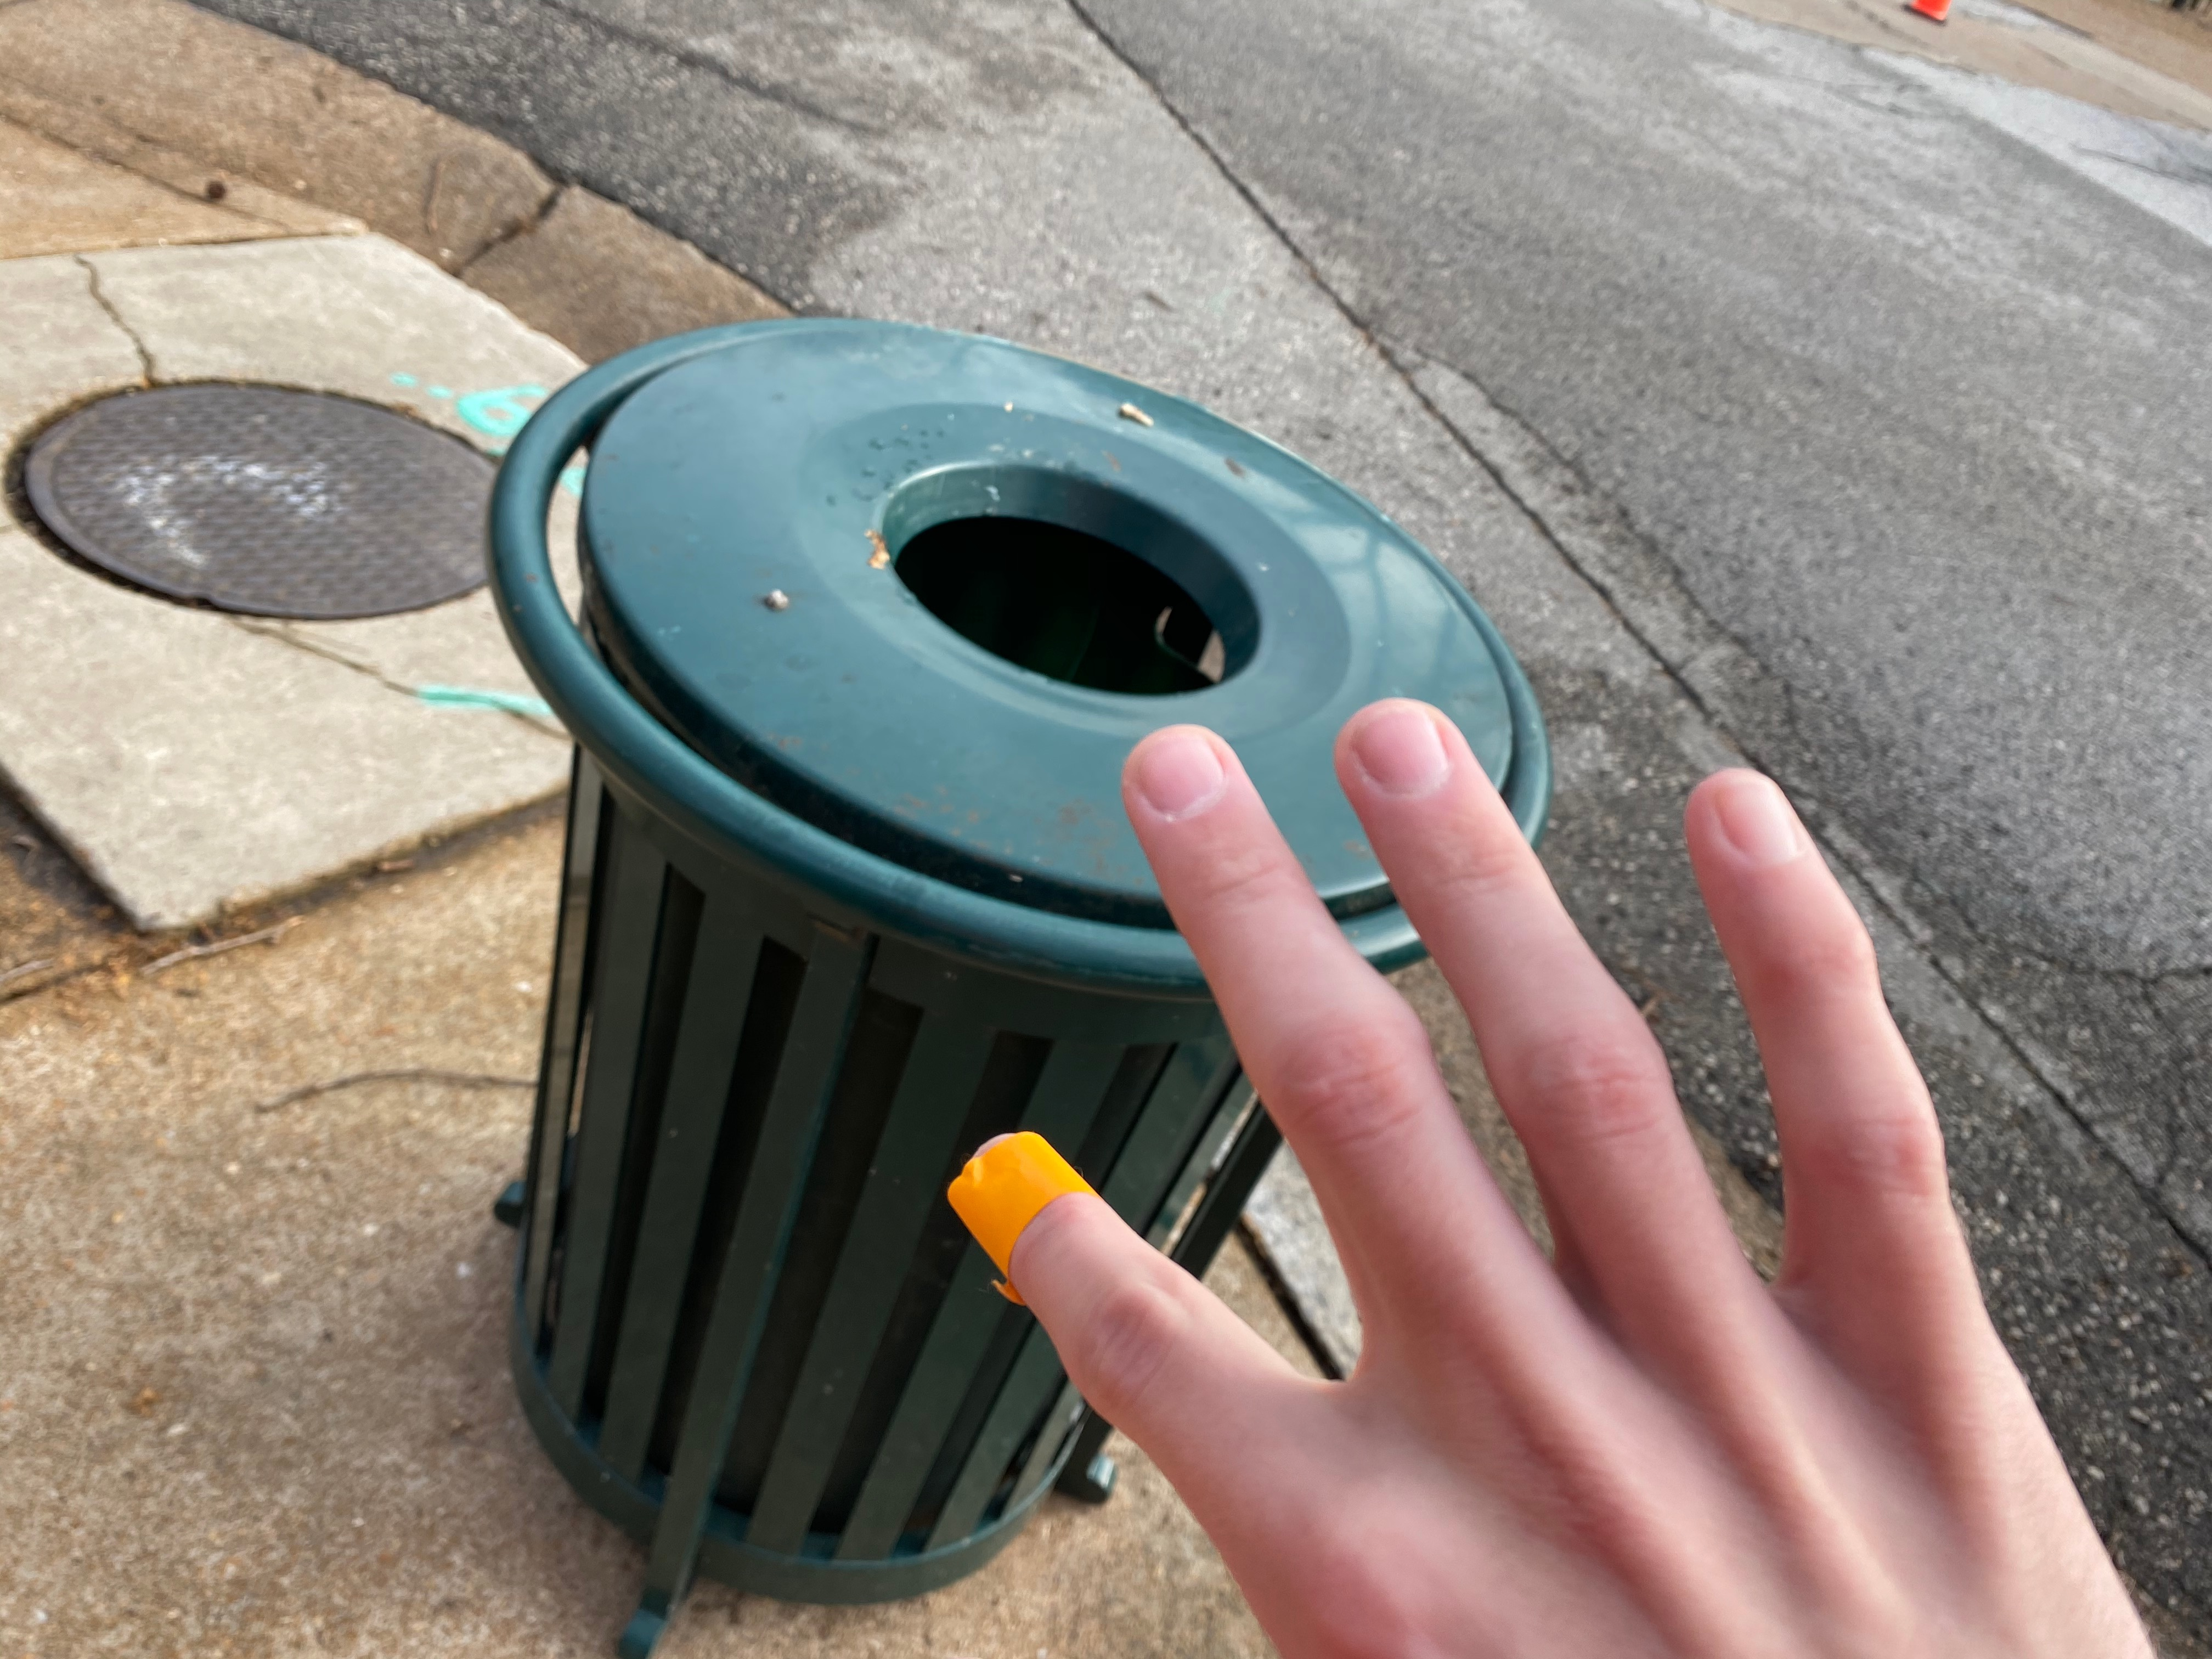fingertip: (906, 1121, 1150, 1317)
